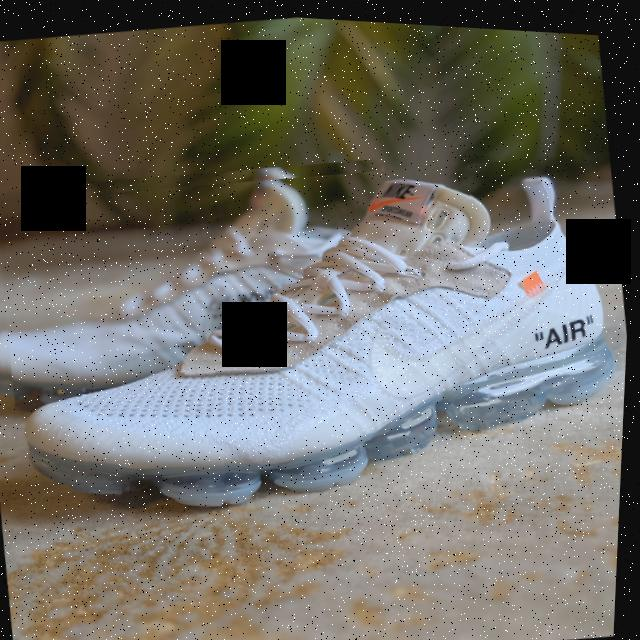shoe: (0, 116, 636, 562), (0, 136, 415, 433)
